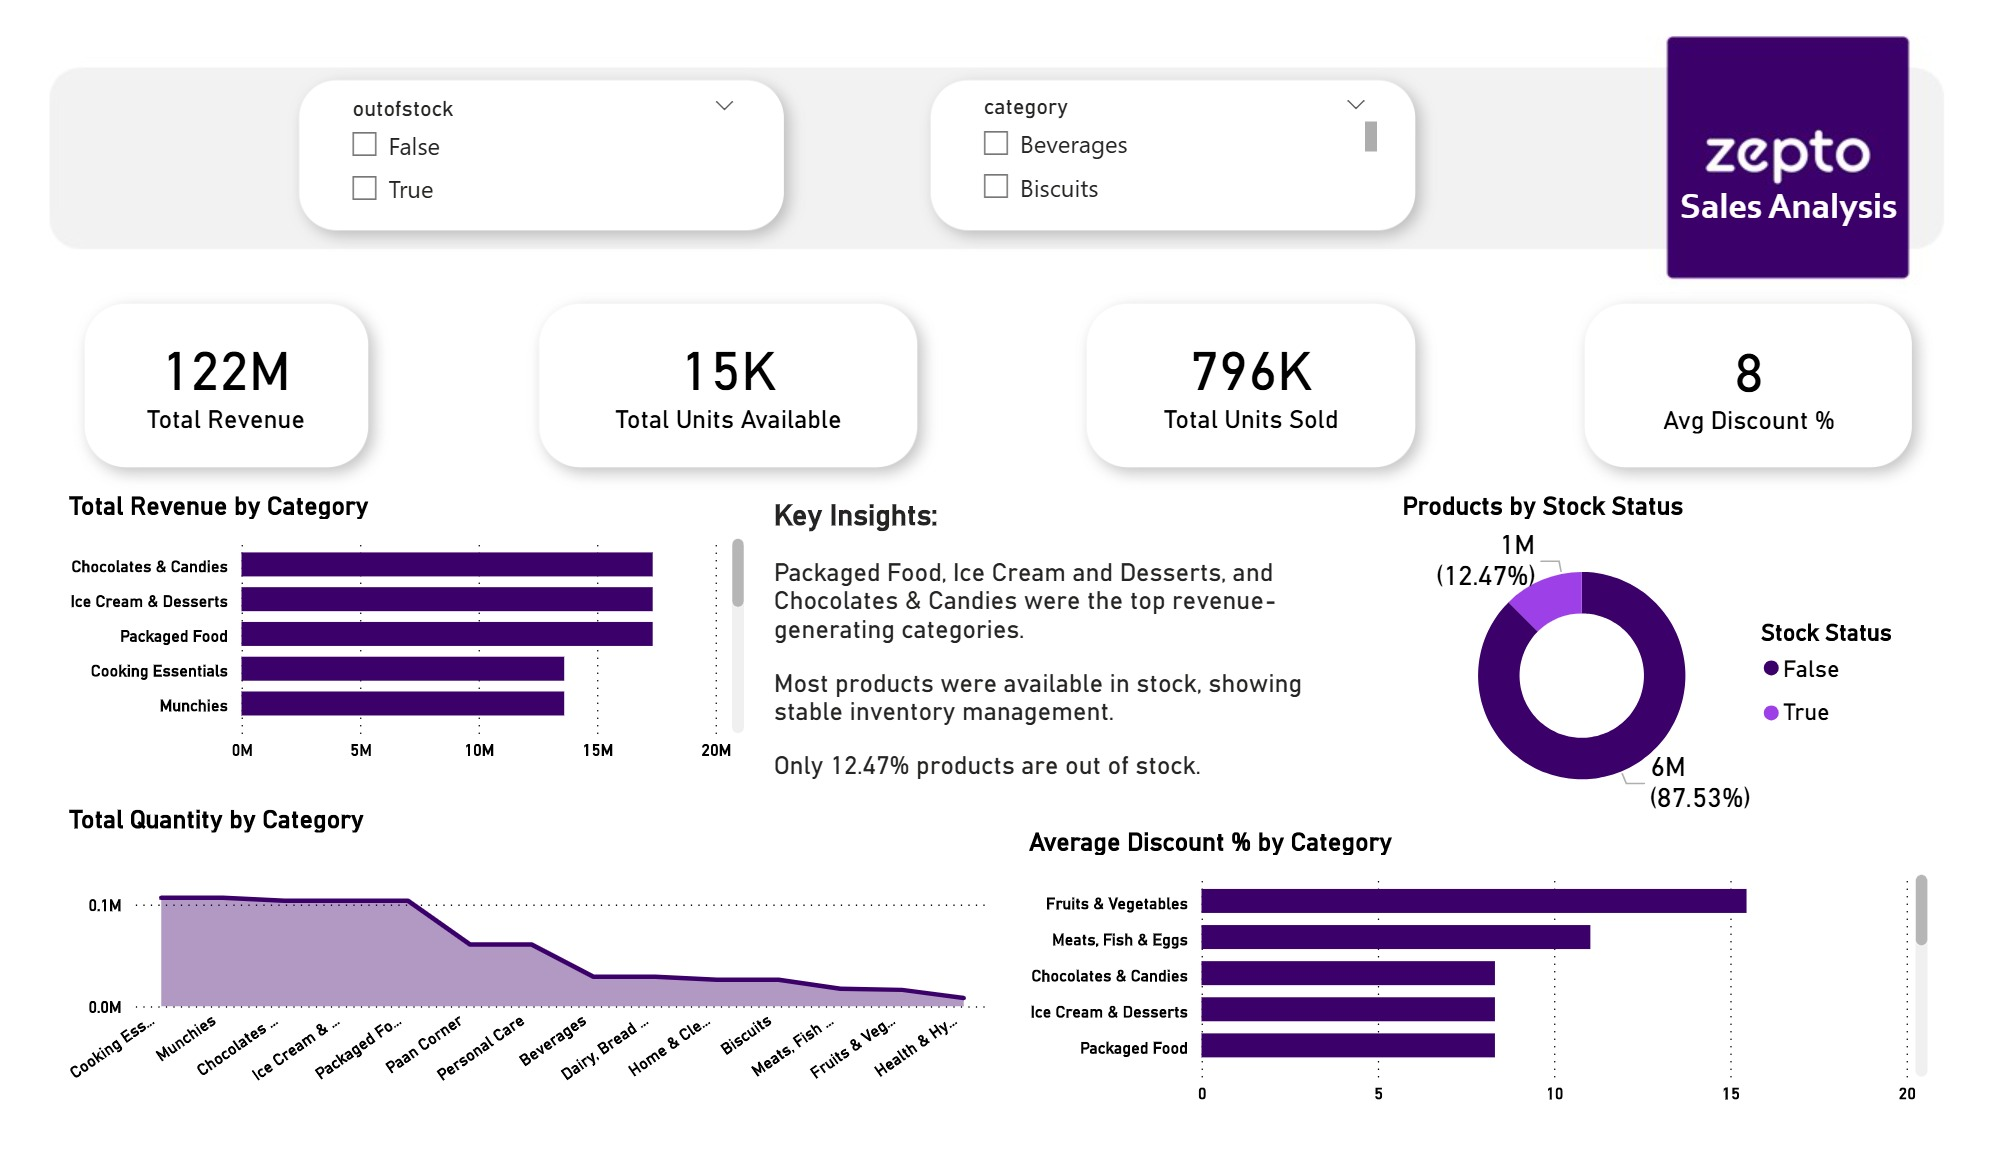

The page's visual inventory and layout, read from the dashboard file:
{"tool":"powerbi","page":{"name":"Page 1","canvas":[1280,720],"ordinal":0},"visuals":[{"type":"shape","box":[581.2,13.8,353.8,131.2],"z":0},{"type":"shape","box":[48.8,162.5,220,140],"z":0,"group":"g7"},{"type":"shape","box":[329.6,162.5,282.5,140],"z":0,"group":"g5"},{"type":"shape","box":[672.9,162.5,250,140],"z":0,"group":"g6"},{"type":"shape","box":[983.8,162.5,248.8,140],"z":0,"group":"g3"},{"type":"shape","box":[160,13.8,353.8,131.2],"z":1000},{"type":"cardVisual","fields":{"Data":["SQL Cleaned Dataset.Max DiscountPercent"]},"box":[1020,185.6,177.5,95],"z":1000,"group":"g3"},{"type":"slicer","fields":{"Values":["SQL Cleaned Dataset.outofstock"]},"box":[197.5,35,280,91.2],"z":2000},{"type":"slicer","fields":{"Values":["SQL Cleaned Dataset.category"]},"box":[618.8,33.8,280,91.2],"z":3000},{"type":"textbox","box":[1127.5,93.8,111.2,51.2],"z":4000},{"type":"group","id":"g1","title":"Group 1","box":[48.8,162.5,220,140],"z":5000},{"type":"group","id":"g2","title":"Group 2","box":[329.6,162.5,282.5,140],"z":6000},{"type":"cardVisual","fields":{"Data":["SQL Cleaned Dataset.Total Revenue"]},"box":[75,185.6,167.5,95],"z":6000,"group":"g7"},{"type":"cardVisual","fields":{"Data":["SQL Cleaned Dataset.Total Available Quantity"]},"box":[365.8,185.6,211.2,95],"z":6000,"group":"g5"},{"type":"cardVisual","fields":{"Data":["SQL Cleaned Dataset.Total Units Sold"]},"box":[707.9,185.6,180,95],"z":6000,"group":"g6"},{"type":"group","id":"g3","title":"Group 3","box":[983.8,162.5,248.8,140],"z":7000},{"type":"group","id":"g4","title":"Group 6","box":[48.8,162.5,220,140],"z":7006,"group":"g1"},{"type":"group","id":"g5","title":"Group 5","box":[329.6,162.5,282.5,140],"z":7006,"group":"g2"},{"type":"group","id":"g6","title":"Group 4","box":[672.9,162.5,250,140],"z":8000},{"type":"group","id":"g7","title":"Group 7","box":[48.8,162.5,220,140],"z":8001,"group":"g4"},{"type":"clusteredBarChart","fields":{"Category":["SQL Cleaned Dataset.category"],"Y":["SQL Cleaned Dataset.Total Revenue"]},"box":[17.3,302.7,622.7,188],"z":9000},{"type":"areaChart","fields":{"Category":["SQL Cleaned Dataset.category"],"Y":["Sum(SQL Cleaned Dataset.quantity)"]},"box":[17.3,512,622.7,196],"z":10000},{"type":"clusteredBarChart","fields":{"Y":["Avg(SQL Cleaned Dataset.discountpercent)"],"Category":["SQL Cleaned Dataset.category"]},"box":[657.3,532,608,188],"z":11000},{"type":"donutChart","title":"Products by Stock Status","fields":{"Category":["SQL Cleaned Dataset.outofstock"],"Y":["Sum(SQL Cleaned Dataset.sku_id)"]},"box":[745.3,302.7,493.3,229.3],"z":12000}]}

Visuals, with their boxes in screenshot pixels (x1, y1, x2, y2), scaled from the page's 1280x720 canvas onto the 1992x1152 screenshot:
shape: <region>904, 22, 1455, 232</region>
shape: <region>76, 260, 418, 484</region>
shape: <region>513, 260, 953, 484</region>
shape: <region>1047, 260, 1436, 484</region>
shape: <region>1531, 260, 1918, 484</region>
shape: <region>249, 22, 800, 232</region>
cardVisual - SQL Cleaned Dataset.Max DiscountPercent: <region>1587, 297, 1864, 449</region>
slicer - SQL Cleaned Dataset.outofstock: <region>307, 56, 743, 202</region>
slicer - SQL Cleaned Dataset.category: <region>963, 54, 1399, 200</region>
textbox: <region>1755, 150, 1928, 232</region>
"Group 1" group: <region>76, 260, 418, 484</region>
"Group 2" group: <region>513, 260, 953, 484</region>
cardVisual - SQL Cleaned Dataset.Total Revenue: <region>117, 297, 377, 449</region>
cardVisual - SQL Cleaned Dataset.Total Available Quantity: <region>569, 297, 898, 449</region>
cardVisual - SQL Cleaned Dataset.Total Units Sold: <region>1102, 297, 1382, 449</region>
"Group 3" group: <region>1531, 260, 1918, 484</region>
"Group 6" group: <region>76, 260, 418, 484</region>
"Group 5" group: <region>513, 260, 953, 484</region>
"Group 4" group: <region>1047, 260, 1436, 484</region>
"Group 7" group: <region>76, 260, 418, 484</region>
clusteredBarChart - SQL Cleaned Dataset.category x SQL Cleaned Dataset.Total Revenue: <region>27, 484, 996, 785</region>
areaChart - SQL Cleaned Dataset.category x Sum(SQL Cleaned Dataset.quantity): <region>27, 819, 996, 1133</region>
clusteredBarChart - Avg(SQL Cleaned Dataset.discountpercent) x SQL Cleaned Dataset.category: <region>1023, 851, 1969, 1151</region>
"Products by Stock Status" donutChart: <region>1160, 484, 1928, 851</region>
